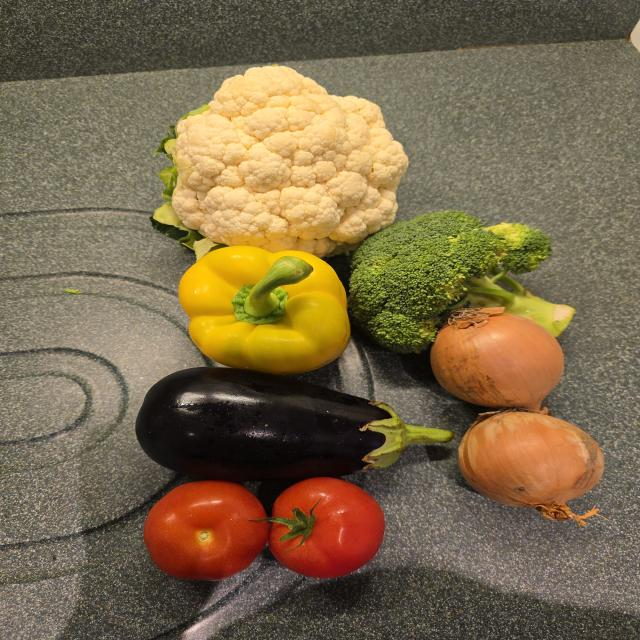Bell Pepper: (179, 245, 350, 374)
Broccoli: (347, 212, 573, 354)
Cauliflower: (153, 66, 408, 257)
Eggplant: (136, 367, 456, 483)
Onion: (459, 410, 604, 520), (430, 307, 564, 410)
Tomato: (144, 481, 269, 581), (269, 477, 385, 578)
